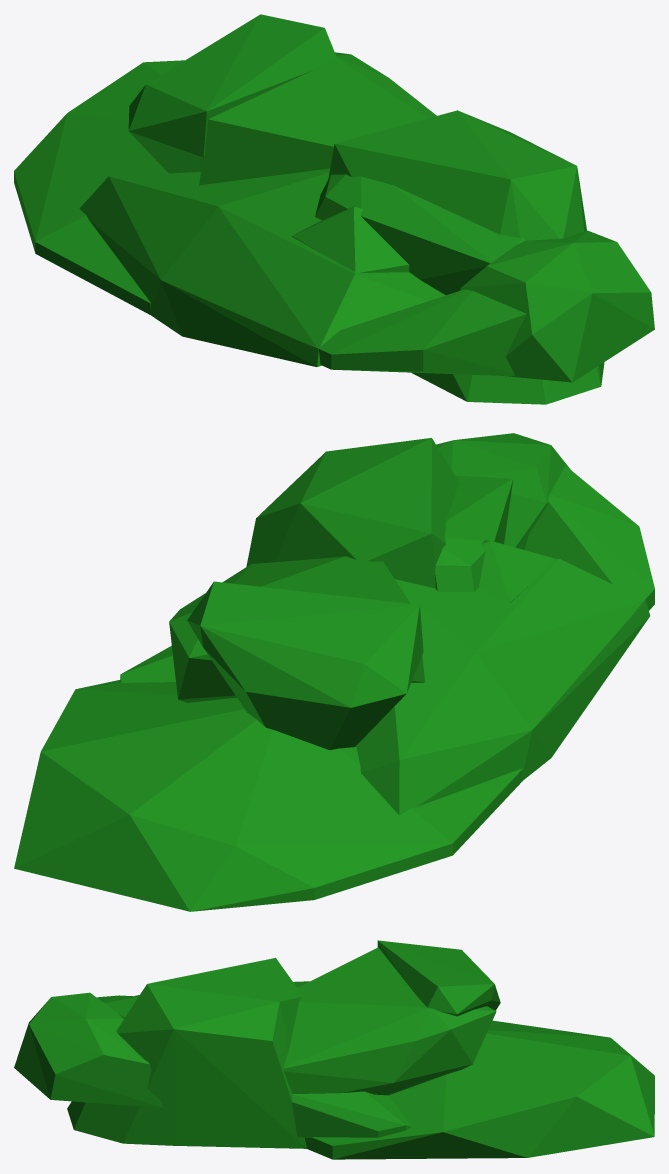
Rendered from Obstacle_07_Colllider_01.FBX.
3 views of the same model, one above another, from view 1: azimuth 30°, elevation 25°; view 2: azimuth 150°, elevation 25°; view 3: azimuth 270°, elevation 25° (orthographic). The views are drawn at different scales.
Parts seen in each view (by area): view 1: COLLIDER_5, COLLIDER_1, COLLIDER_6, COLLIDER_4, COLLIDER_3, COLLIDER_2, COLLIDER_8, COLLIDER_7, COLLIDER_9; view 2: COLLIDER_4, COLLIDER_5, COLLIDER_2, COLLIDER_1, COLLIDER_8, COLLIDER_3, COLLIDER_6, COLLIDER_7, COLLIDER_9; view 3: COLLIDER_1, COLLIDER_4, COLLIDER_3, COLLIDER_6, COLLIDER_2, COLLIDER_9, COLLIDER_7.
Boxes of the visible parts, x1=… form: COLLIDER_5: x1=79, y1=168, x2=445, y2=366; COLLIDER_1: x1=328, y1=110, x2=604, y2=404; COLLIDER_6: x1=459, y1=230, x2=654, y2=382; COLLIDER_4: x1=14, y1=60, x2=184, y2=314; COLLIDER_3: x1=199, y1=52, x2=436, y2=185; COLLIDER_2: x1=128, y1=14, x2=337, y2=173; COLLIDER_8: x1=304, y1=289, x2=526, y2=375; COLLIDER_7: x1=315, y1=174, x2=524, y2=295; COLLIDER_9: x1=292, y1=205, x2=409, y2=272; COLLIDER_4: x1=14, y1=680, x2=522, y2=911; COLLIDER_5: x1=356, y1=557, x2=650, y2=815; COLLIDER_2: x1=187, y1=581, x2=423, y2=750; COLLIDER_1: x1=246, y1=438, x2=459, y2=588; COLLIDER_8: x1=525, y1=466, x2=654, y2=611; COLLIDER_3: x1=169, y1=556, x2=424, y2=702; COLLIDER_6: x1=436, y1=433, x2=571, y2=549; COLLIDER_7: x1=435, y1=475, x2=512, y2=591; COLLIDER_9: x1=120, y1=540, x2=555, y2=682; COLLIDER_1: x1=67, y1=958, x2=306, y2=1148; COLLIDER_4: x1=304, y1=1020, x2=654, y2=1159; COLLIDER_3: x1=283, y1=947, x2=496, y2=1095; COLLIDER_6: x1=14, y1=992, x2=163, y2=1107; COLLIDER_2: x1=377, y1=940, x2=500, y2=1016; COLLIDER_9: x1=292, y1=1091, x2=411, y2=1137; COLLIDER_7: x1=104, y1=995, x2=139, y2=1018.
Bounding box in the file's own units: 177 × 78.63 × 342.
